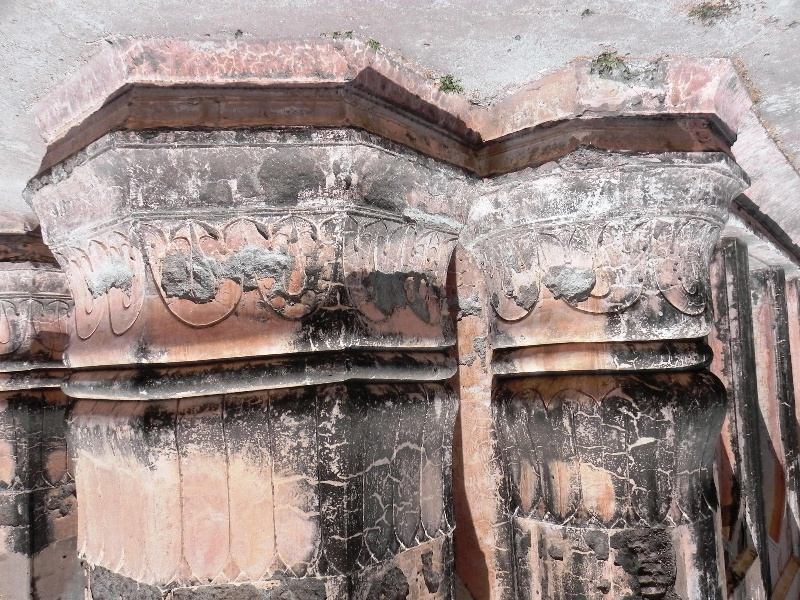Spalling: (158, 242, 299, 293), (352, 259, 431, 319), (538, 258, 597, 308), (86, 258, 132, 301)
